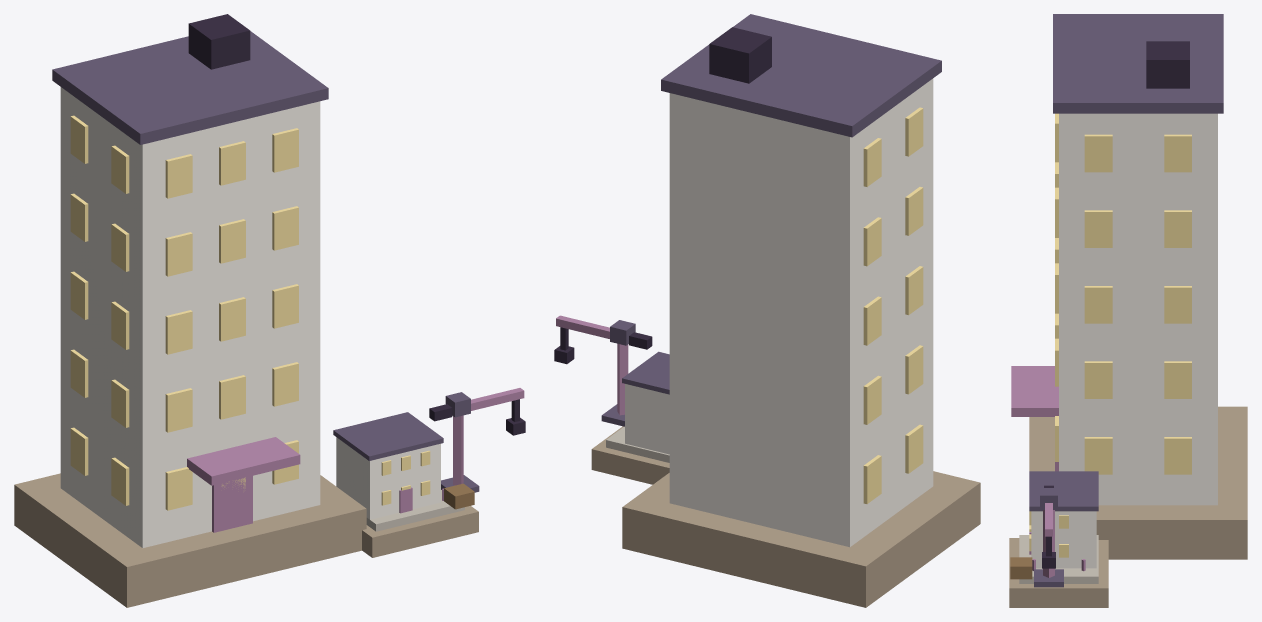
Rendered from city-g2.glb.
3 renders of one model, left to right at view 1: azimuth 30°, elevation 25°; view 2: azimuth 150°, elevation 25°; view 3: azimuth 270°, elevation 25°, orthographic. The views are drawn at different scales.
Visible parts, largest first — view 1: city-g2; view 2: city-g2; view 3: city-g2.
Boxes of the visible parts, x1=… form: city-g2: x1=14, y1=14, x2=525, y2=607; city-g2: x1=554, y1=14, x2=980, y2=607; city-g2: x1=1009, y1=14, x2=1247, y2=607.
Bounding box in the file's own units: 2.28 × 2.63 × 1.2.
